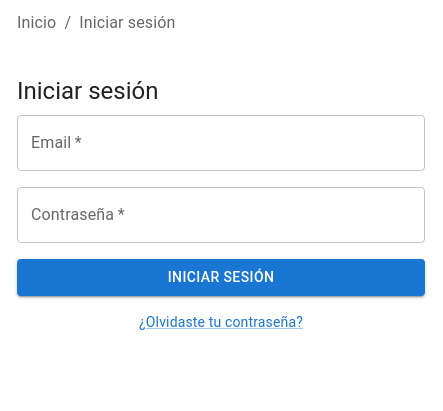
Test: LoginForm (RF-01) › si las credenciales no valen, un único mensaje sin pistas, sin navegar (SEC-01)
Type "ana@ejemplo.com" into the field labelled "Email *" at (221,143), box top-left (17, 115), bottom-right (425, 171)
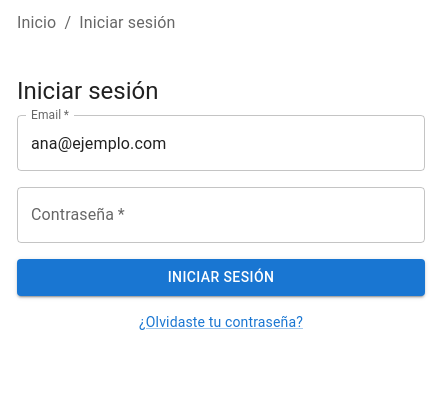
Type "Bici-Azul-Lluvia-47" into the password field labelled "Contraseña *" at (221,215), box top-left (17, 187), bottom-right (425, 243)
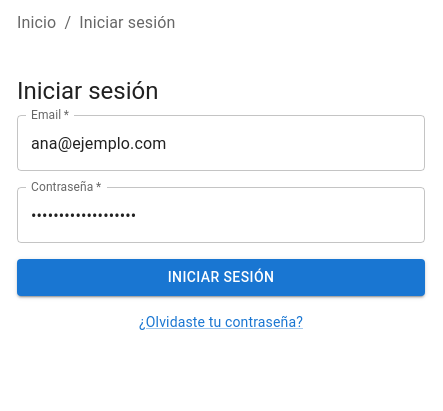
Click the button "Iniciar sesión" at (221,278), box top-left (17, 259), bottom-right (425, 296)
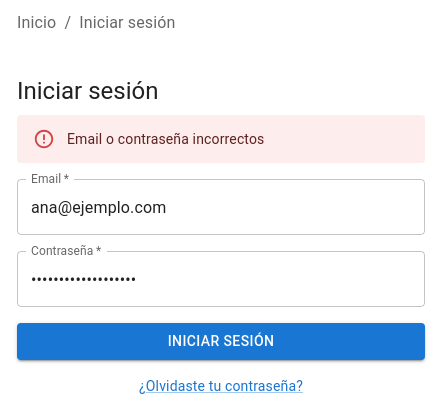
expect the text "Email o contraseña incorrectos" is shown: met, box top-left (67, 131), bottom-right (264, 147)
